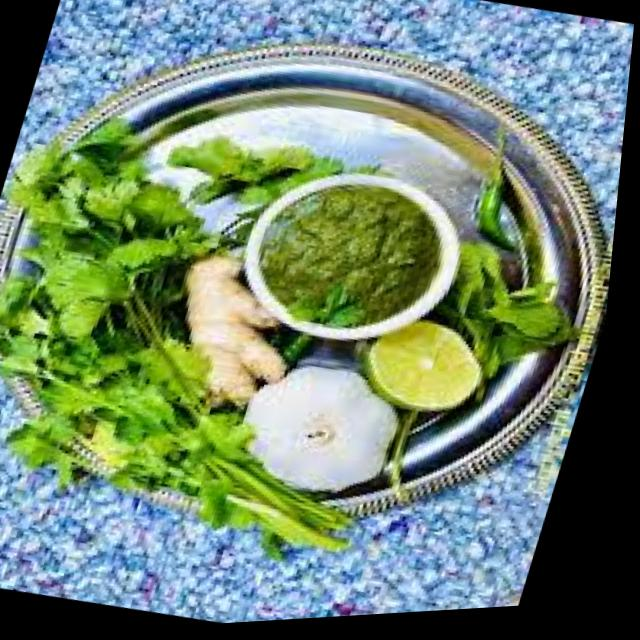GREEN CHUTNEY: (251, 190, 435, 327)
